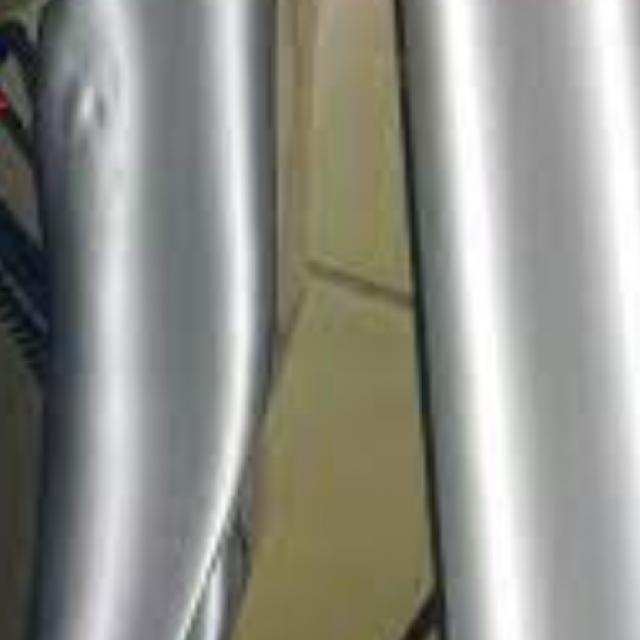dents: (58, 56, 138, 168)
